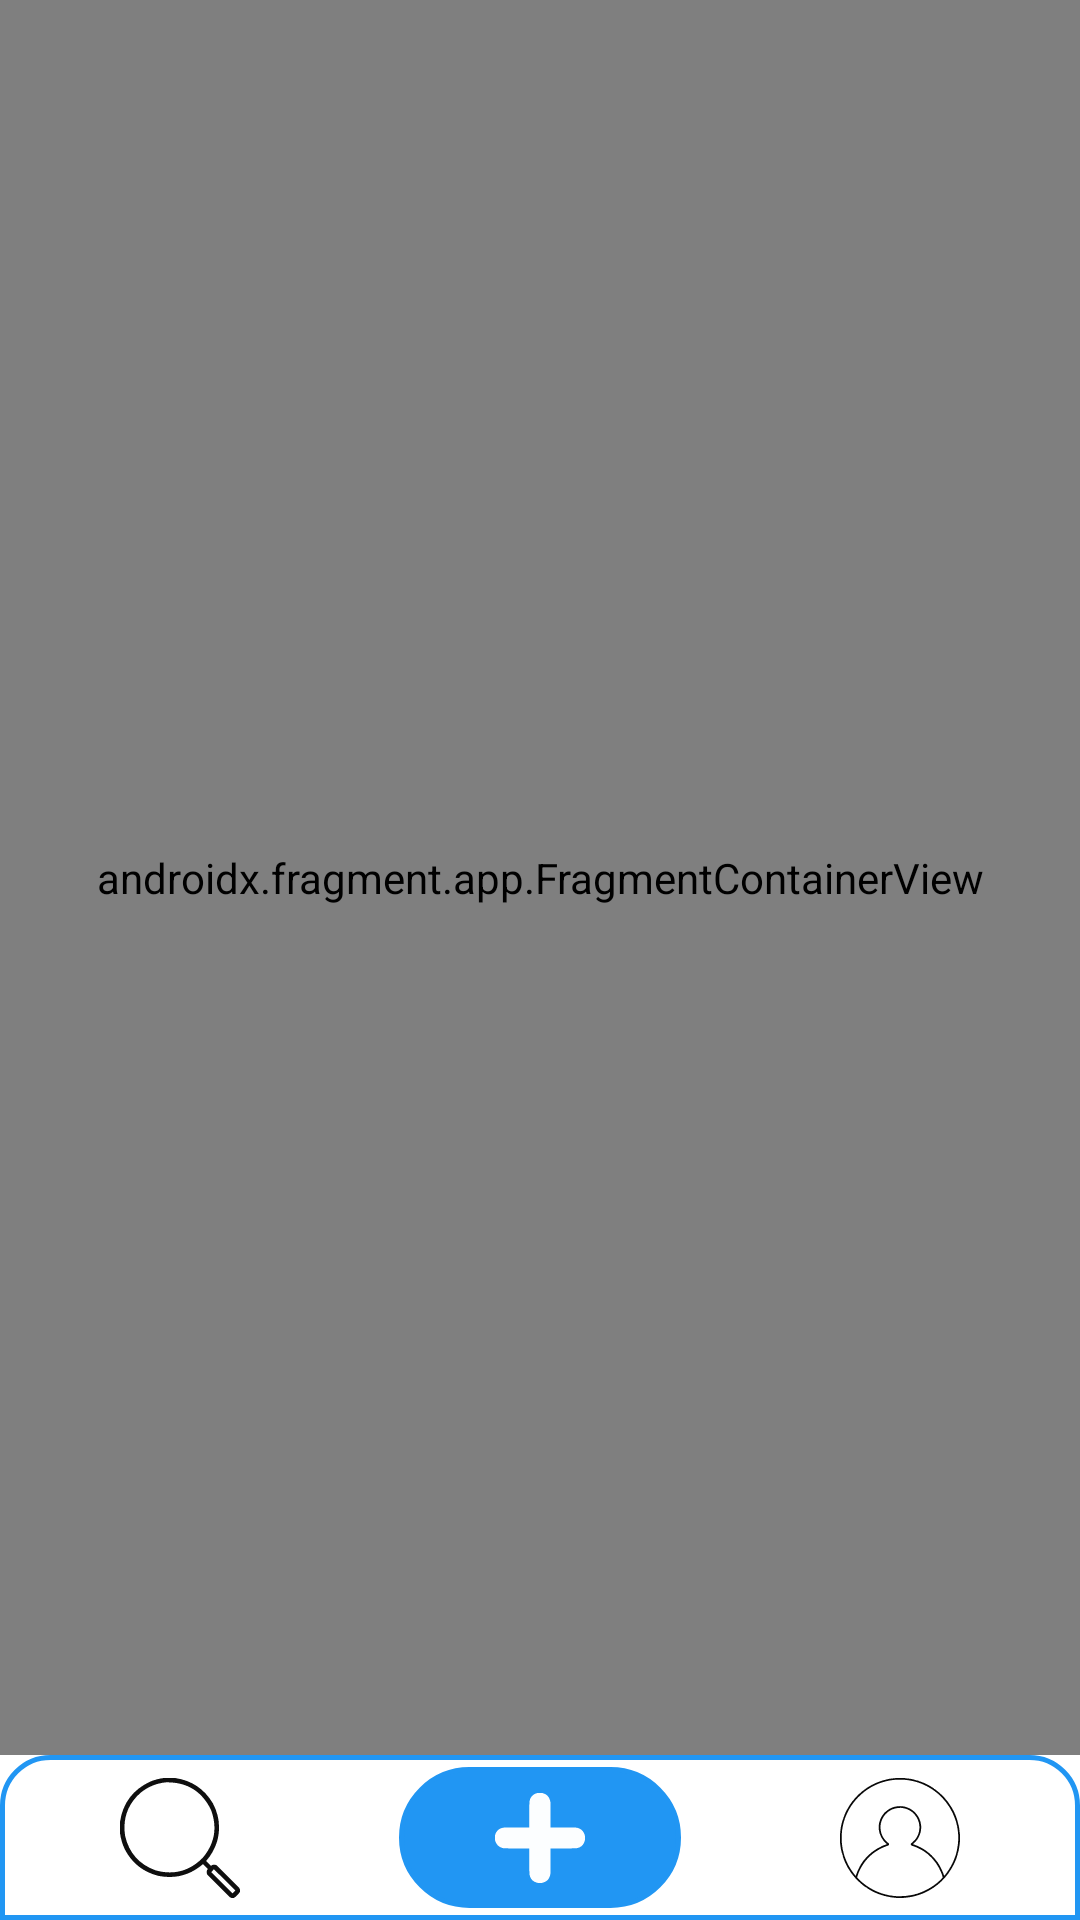

Icon bounding boxes for this 1080x1920 phone screenshot, format (x1, y1, x2, y2):
Button to create a new form: (399, 1767, 681, 1908)
Button to open your account: (720, 1755, 1080, 1920)
Button to search forms: (0, 1755, 360, 1920)
